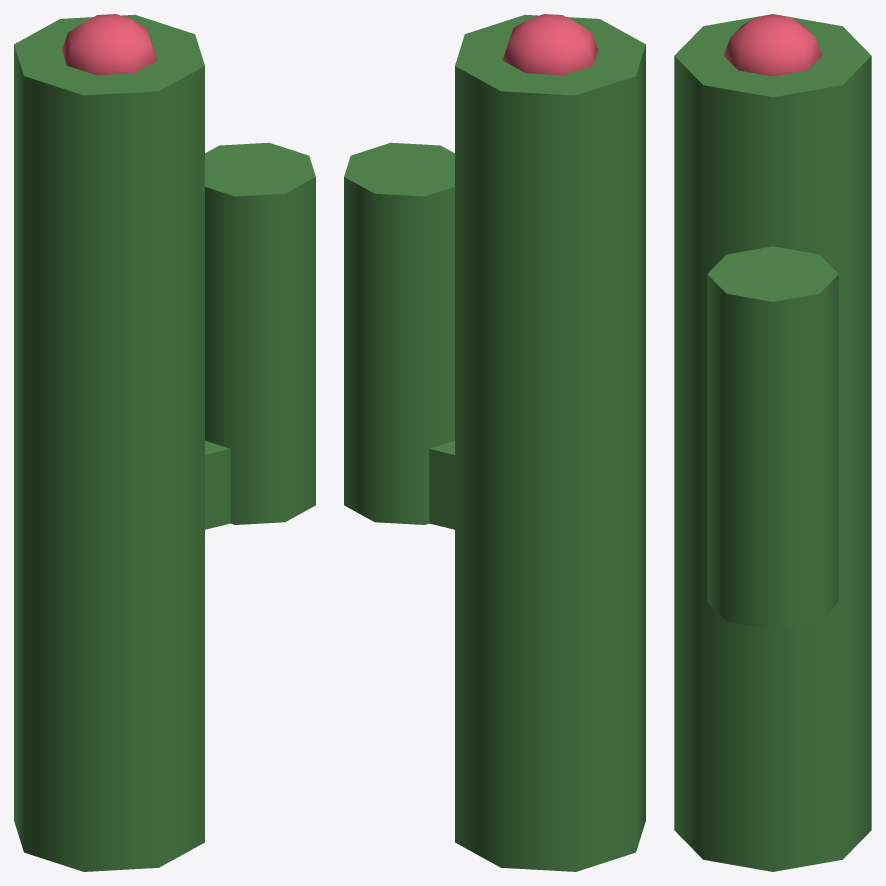
File: cactus.glb
3 views of the same model, side by side, from view 1: azimuth 30°, elevation 25°; view 2: azimuth 150°, elevation 25°; view 3: azimuth 270°, elevation 25° (orthographic).
Visible parts, largest first — view 1: cactus; view 2: cactus; view 3: cactus.
Part boxes in pixels (left/top/right/bottom): cactus: left=14, top=14, right=315, bottom=871; cactus: left=344, top=14, right=645, bottom=871; cactus: left=674, top=14, right=871, bottom=871.
Bounding box in the file's own units: 1 × 2.72 × 0.6.
